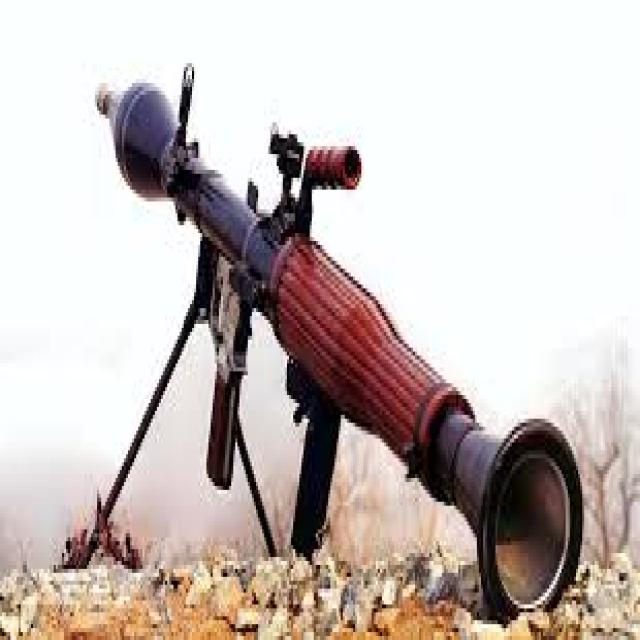Gun: (75, 64, 589, 626)
